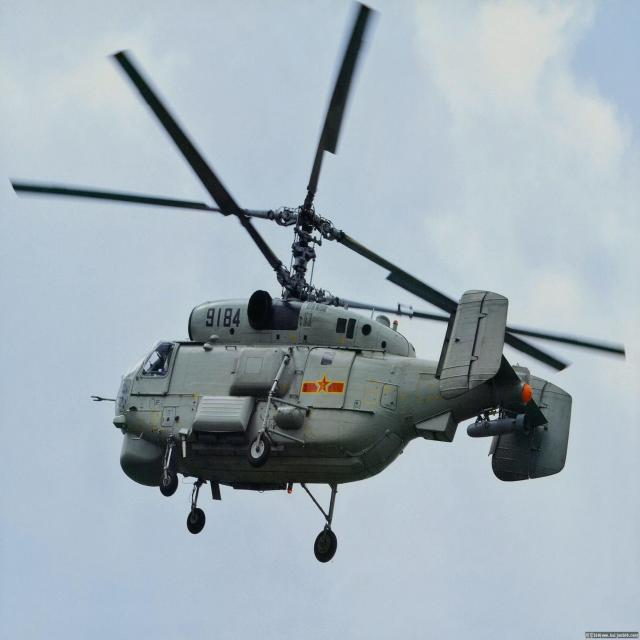MIL_HELO: (13, 4, 621, 573)
